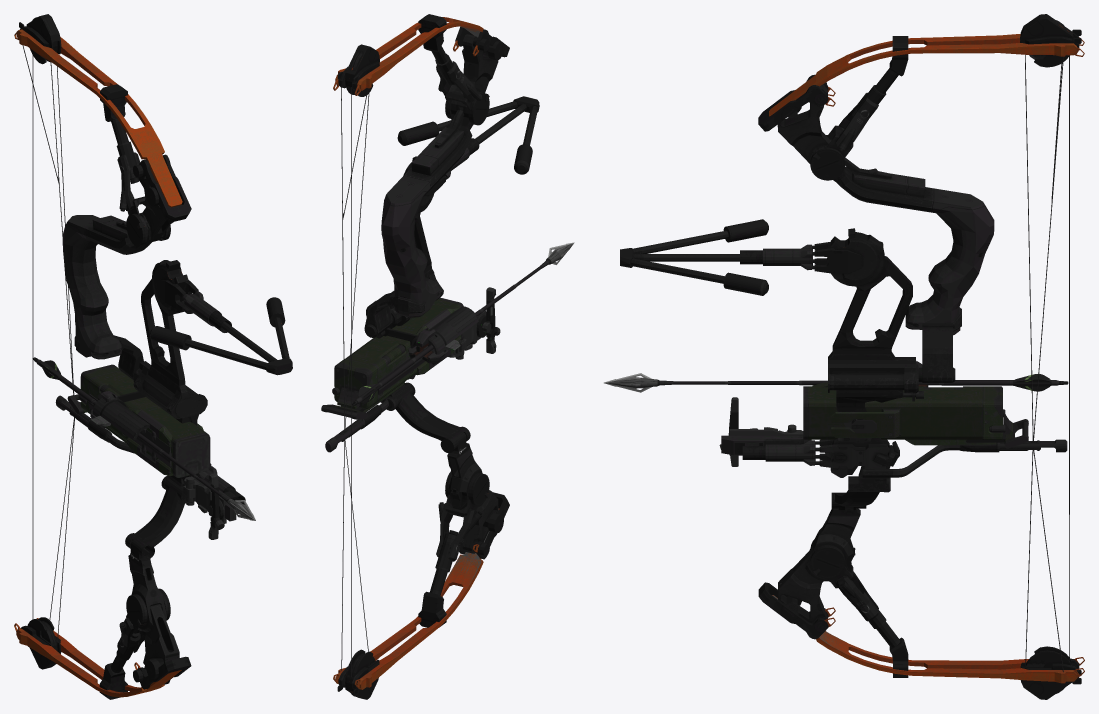
File: bow_arrow.obj
The picture shows the model from 3 angles, left to right: view 1: azimuth 30°, elevation 25°; view 2: azimuth 150°, elevation 25°; view 3: azimuth 270°, elevation 25°; orthographic projection. The views are drawn at different scales.
Bounding box in the file's own units: 0.4823 × 2.29 × 1.47.
Materials: 6 (6 with a texture image).
